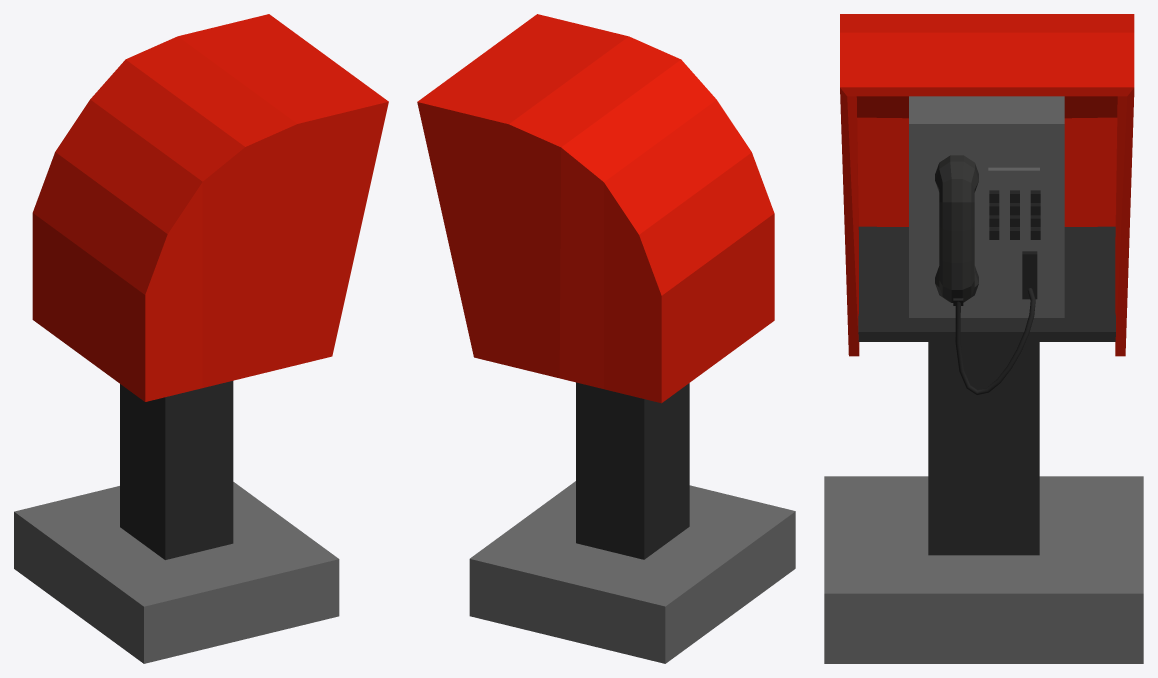
Rendered from Telefono.glb.
3 views of the same model, side by side, from view 1: azimuth 30°, elevation 25°; view 2: azimuth 150°, elevation 25°; view 3: azimuth 270°, elevation 25° (orthographic). The views are drawn at different scales.
Parts seen in each view (by area): view 1: Cube.120, Cube.125, Cube.119; view 2: Cube.120, Cube.125, Cube.119; view 3: Cube.125, Cube.120, Cube.119, Cube.121, Cylinder.002, Cube.124.
Part boxes in pixels (<box>): Cube.120: <box>32,14,388,401</box>; Cube.125: <box>14,482,339,663</box>; Cube.119: <box>120,381,233,559</box>; Cube.120: <box>417,14,774,403</box>; Cube.125: <box>469,481,795,663</box>; Cube.119: <box>576,382,689,559</box>; Cube.125: <box>824,476,1143,663</box>; Cube.120: <box>840,14,1134,356</box>; Cube.119: <box>858,226,1115,555</box>; Cube.121: <box>909,96,1064,317</box>; Cylinder.002: <box>935,155,978,302</box>; Cube.124: <box>953,190,1040,395</box>.
Size of the model in its own units: 0.8908 by 1.68 by 0.7978.
